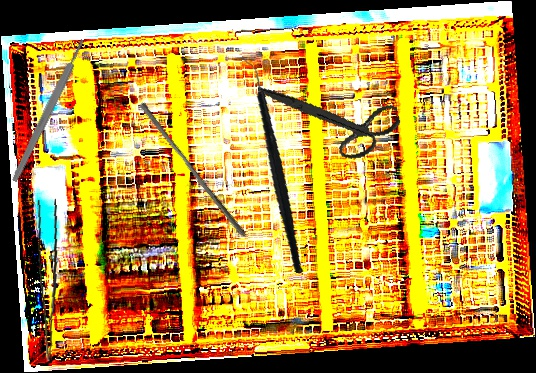Chopper: (211, 57, 332, 274)
Iris Scissors: (257, 56, 406, 177)
Pusher: (134, 101, 253, 239)
Scalpel Handle: (10, 37, 87, 184)
Tissue Forceps: (33, 198, 70, 361)
